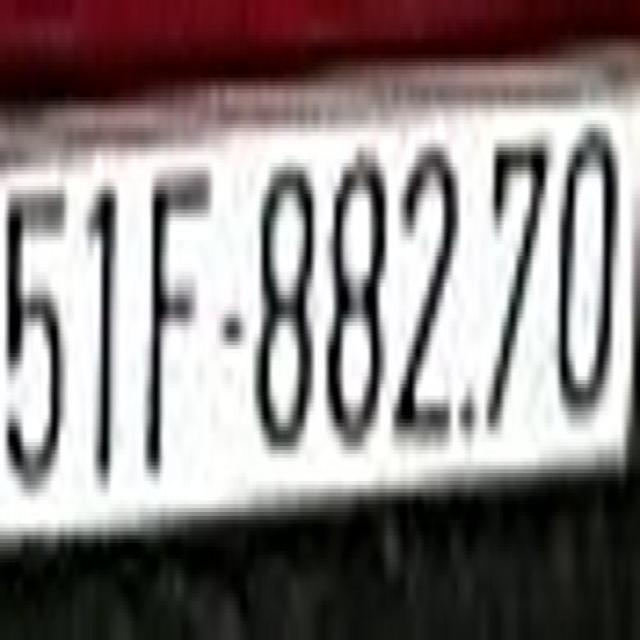0: (554, 89, 622, 442)
1: (74, 140, 126, 524)
2: (397, 109, 456, 462)
5: (3, 136, 66, 512)
7: (487, 97, 547, 450)
8: (254, 116, 315, 481), (322, 117, 384, 470)
F: (144, 120, 212, 477)
